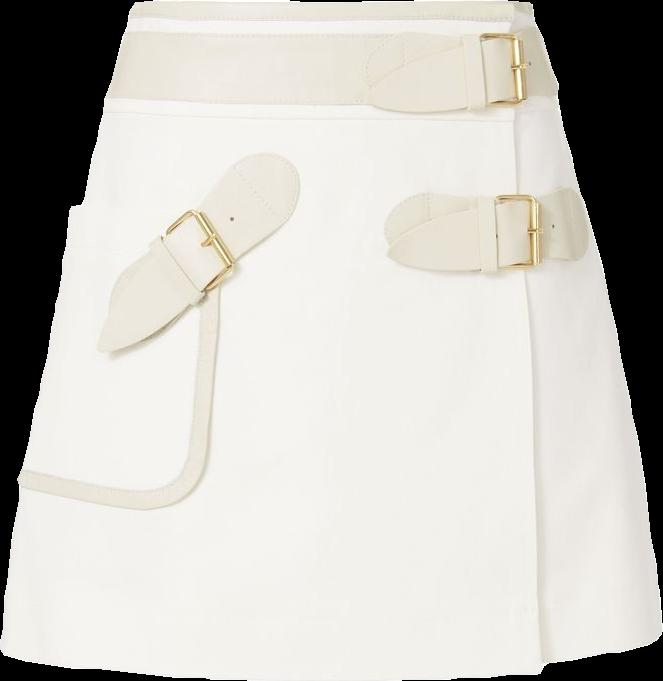Hemline: (0, 22, 549, 680), (543, 631, 662, 668)
Waistline: (123, 16, 537, 29), (129, 0, 531, 12)
